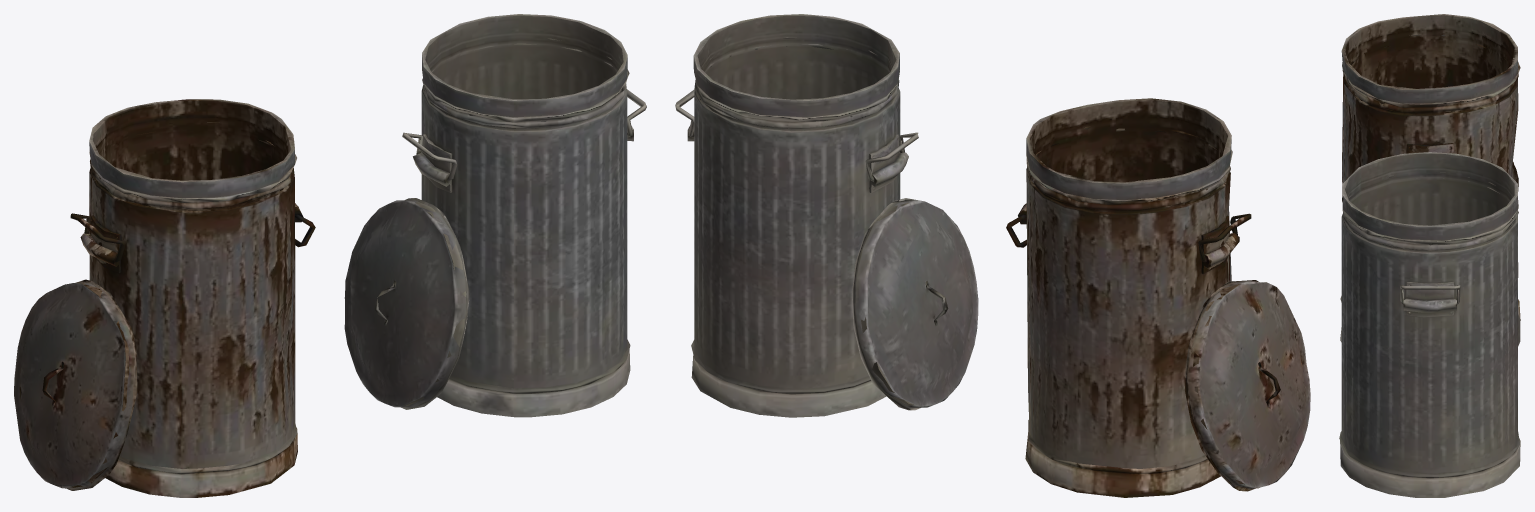
File: metal_trash_can.glb
3 renders of one model, left to right at view 1: azimuth 30°, elevation 25°; view 2: azimuth 150°, elevation 25°; view 3: azimuth 270°, elevation 25°, orthographic. The views are drawn at different scales.
Visible parts, largest first — view 1: metal_trash_can, metal_trash_can_rust, metal_trash_can_lid, metal_trash_can_rust_lid; view 2: metal_trash_can, metal_trash_can_rust, metal_trash_can_lid, metal_trash_can_rust_lid; view 3: metal_trash_can, metal_trash_can_rust, metal_trash_can_handle_right.
Boxes of the visible parts, x1,y1,x2,y2 form: metal_trash_can: [413, 14, 633, 417]; metal_trash_can_rust: [80, 99, 303, 497]; metal_trash_can_lid: [344, 198, 469, 409]; metal_trash_can_rust_lid: [14, 279, 137, 490]; metal_trash_can: [687, 14, 908, 417]; metal_trash_can_rust: [1018, 98, 1239, 497]; metal_trash_can_lid: [852, 198, 978, 410]; metal_trash_can_rust_lid: [1184, 280, 1310, 491]; metal_trash_can: [1339, 152, 1520, 497]; metal_trash_can_rust: [1340, 14, 1520, 320]; metal_trash_can_handle_right: [1400, 285, 1460, 304].
Size of the model in its own units: 1.78 by 0.9062 by 0.5502.
Materials: 2 (2 with a texture image).
